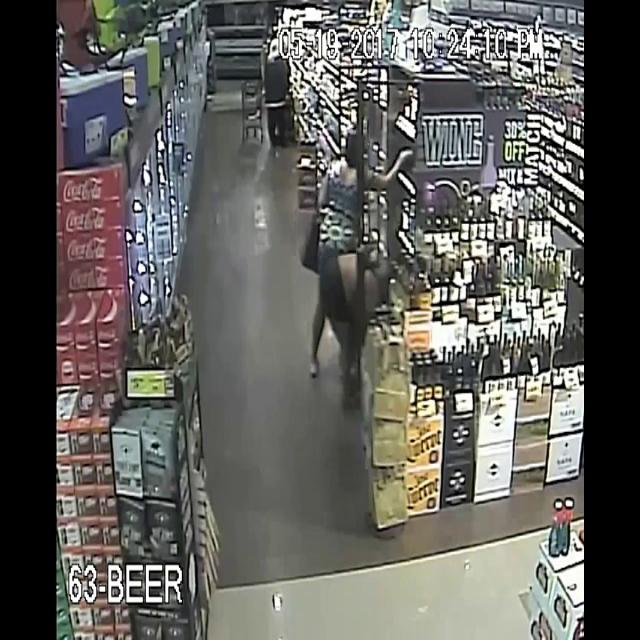normal: (328, 232, 406, 400), (323, 112, 419, 222), (251, 29, 294, 143)
